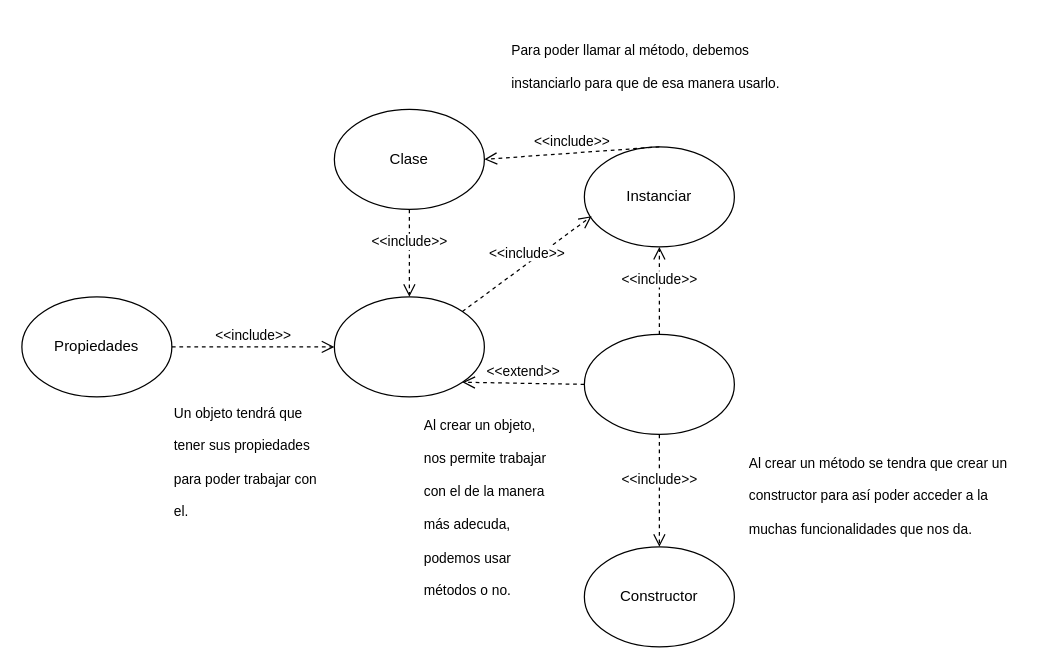
This 1060x669 diagram has some shape labels left out. The centre of each missing label's shape, as x and y in pixels:
Metodos: the point at 658,383
Objeto: the point at 408,346
